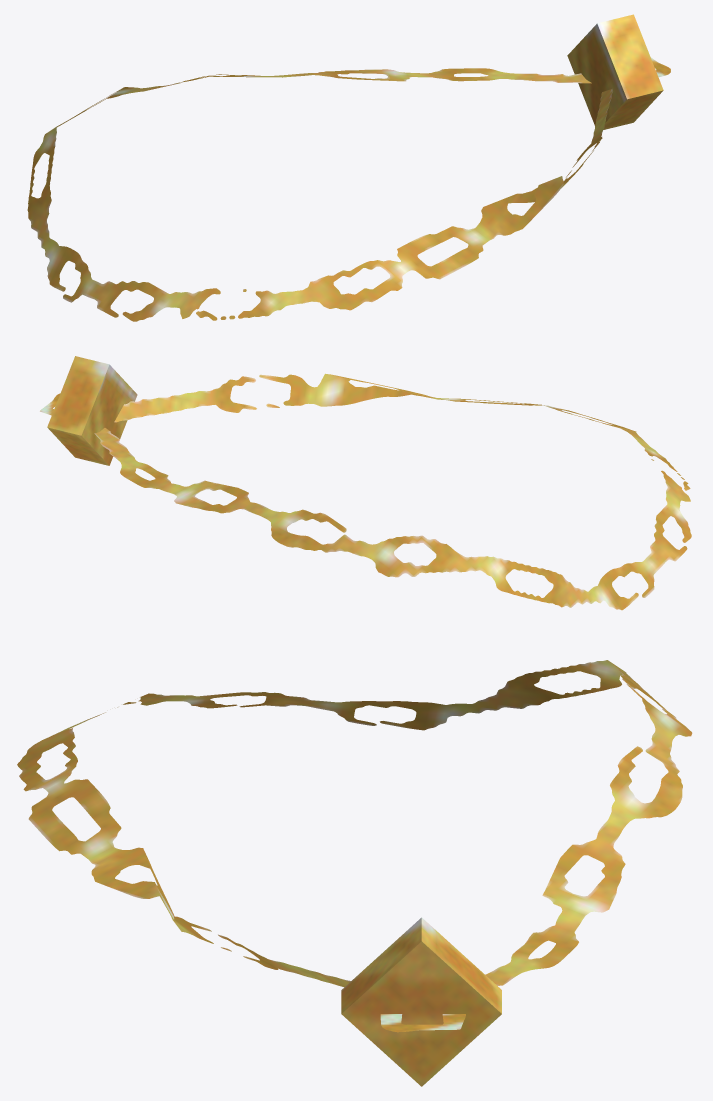
The model's file is Mesh_necklace.fbx.
3 renders of one model, top to bottom at view 1: azimuth 30°, elevation 25°; view 2: azimuth 150°, elevation 25°; view 3: azimuth 270°, elevation 25°, orthographic. The views are drawn at different scales.
Parts seen in each view (by area): view 1: Mesh_necklace; view 2: Mesh_necklace; view 3: Mesh_necklace.
Boxes of the visible parts, left/top/right/bottom form: Mesh_necklace: left=27, top=14, right=670, bottom=321; Mesh_necklace: left=40, top=356, right=691, bottom=610; Mesh_necklace: left=17, top=660, right=692, bottom=1086.
Size of the model in its own units: 98.42 by 20.18 by 68.23.
